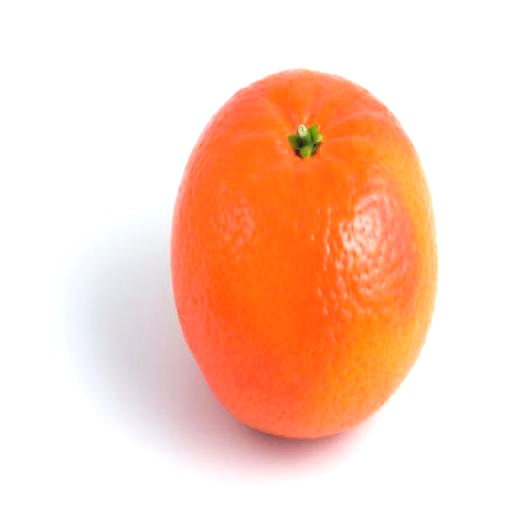fruit: (171, 70, 436, 437)
